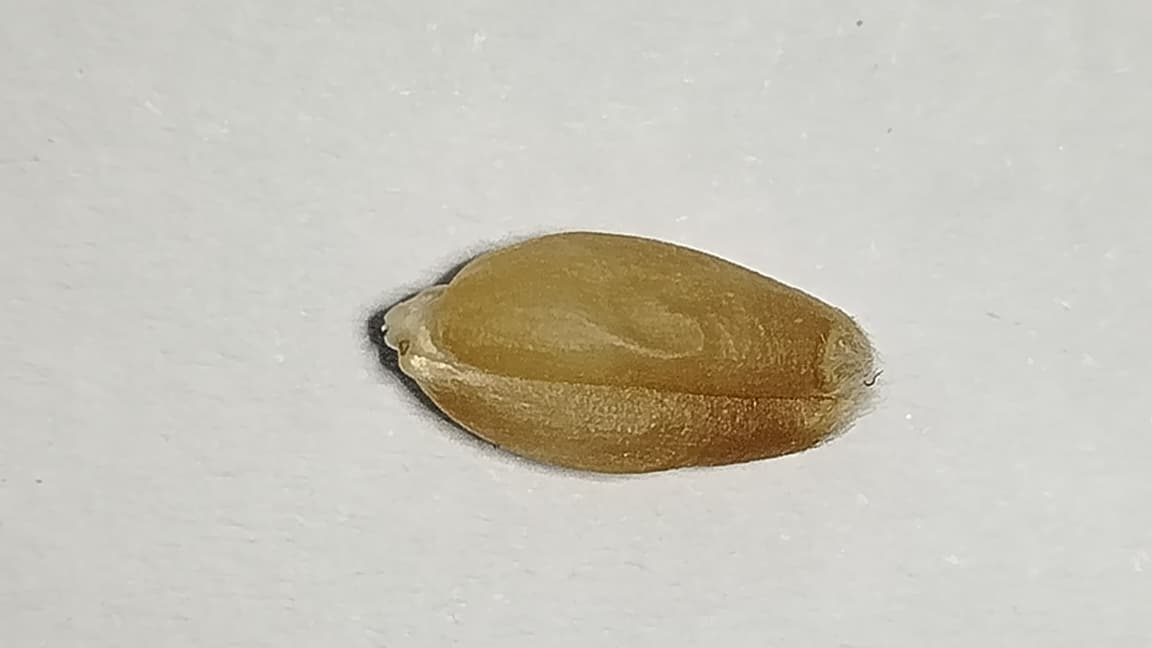healthy: (385, 234, 872, 468)
